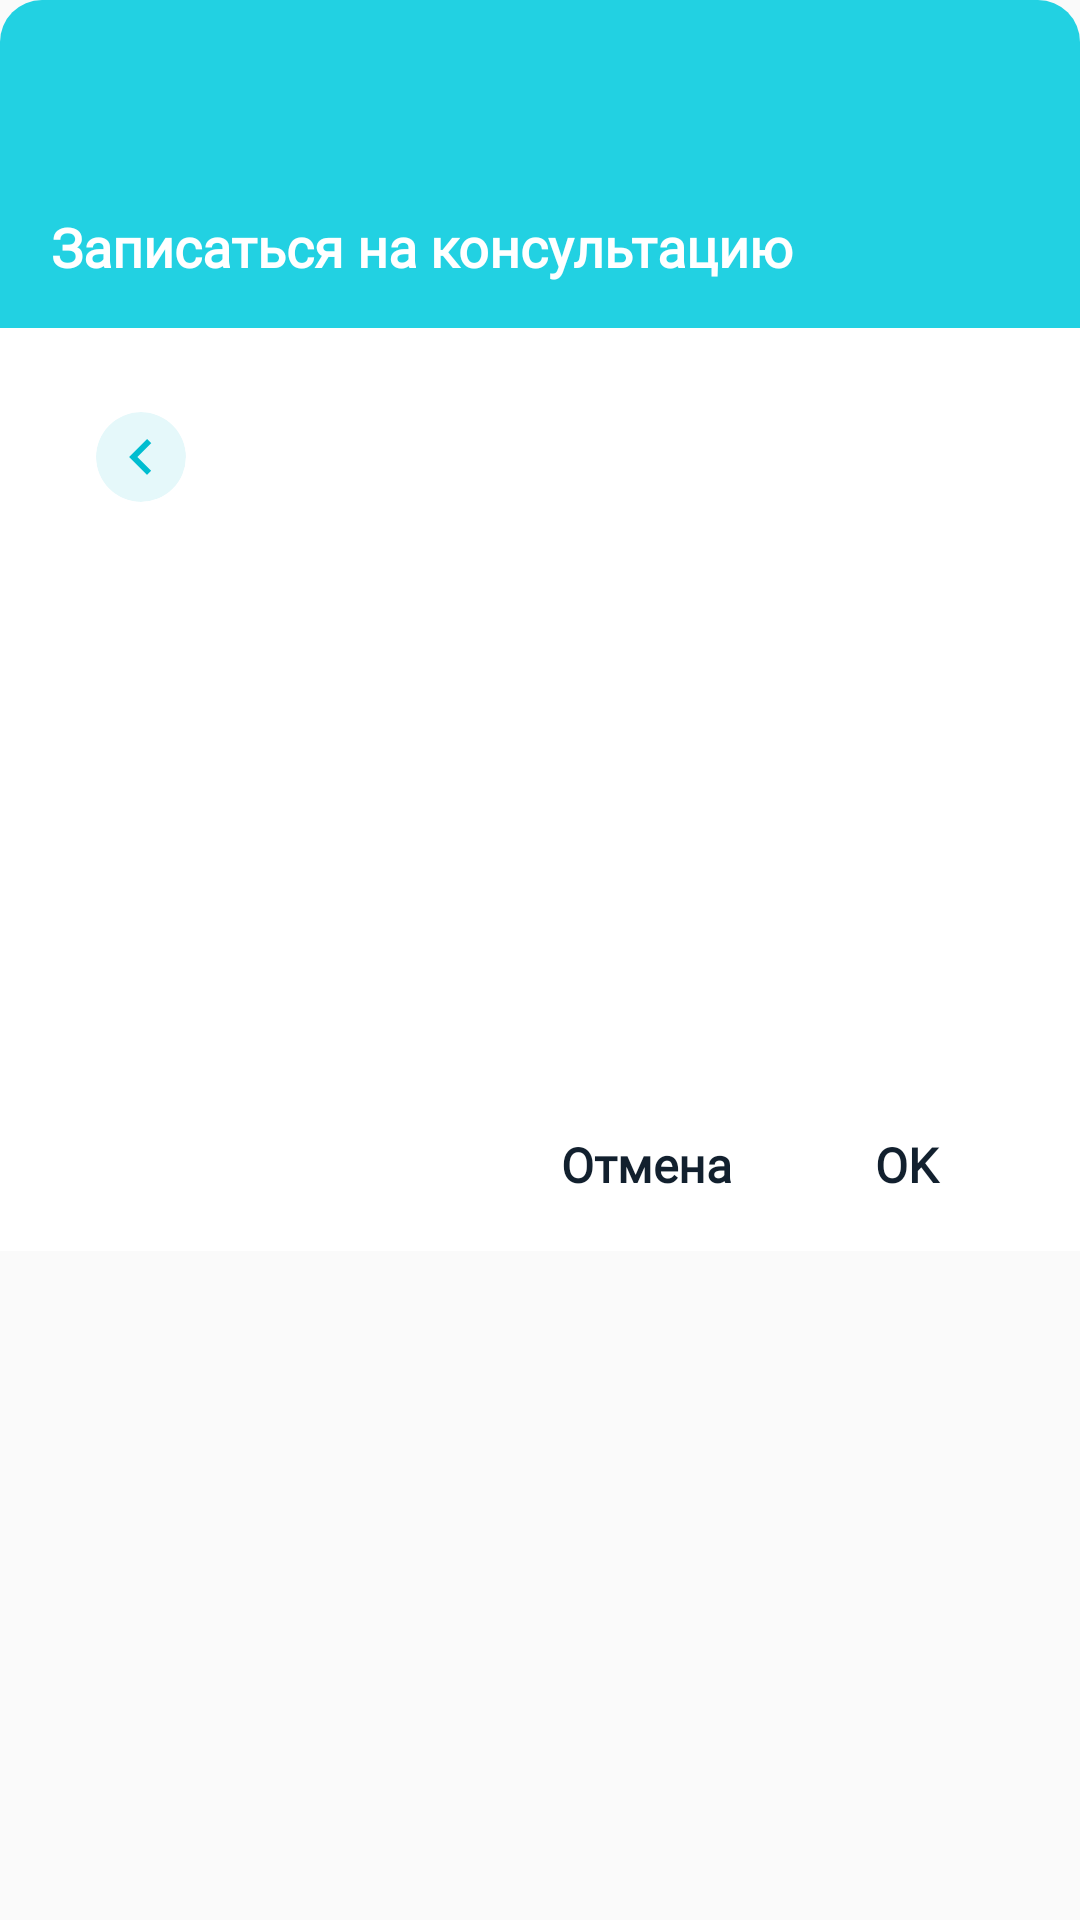

Screen size 1080px×1920px. Icon name, then its center in pixels as [x,y]:
back: [141,457]
